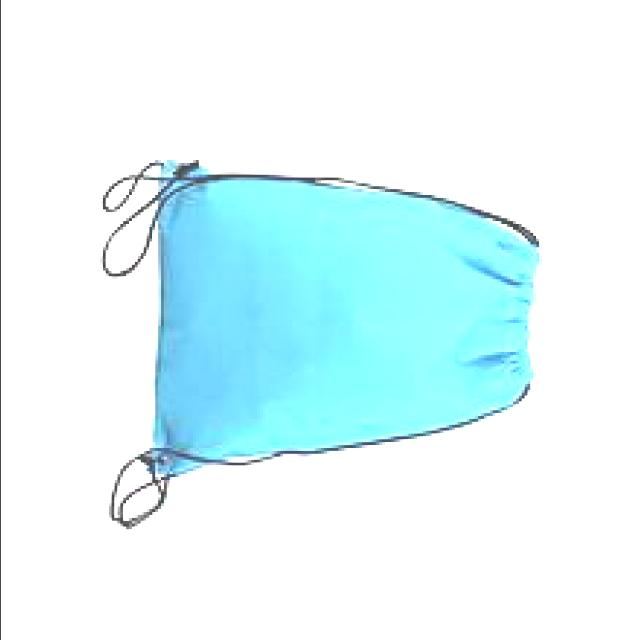backpack: (103, 159, 545, 531)
